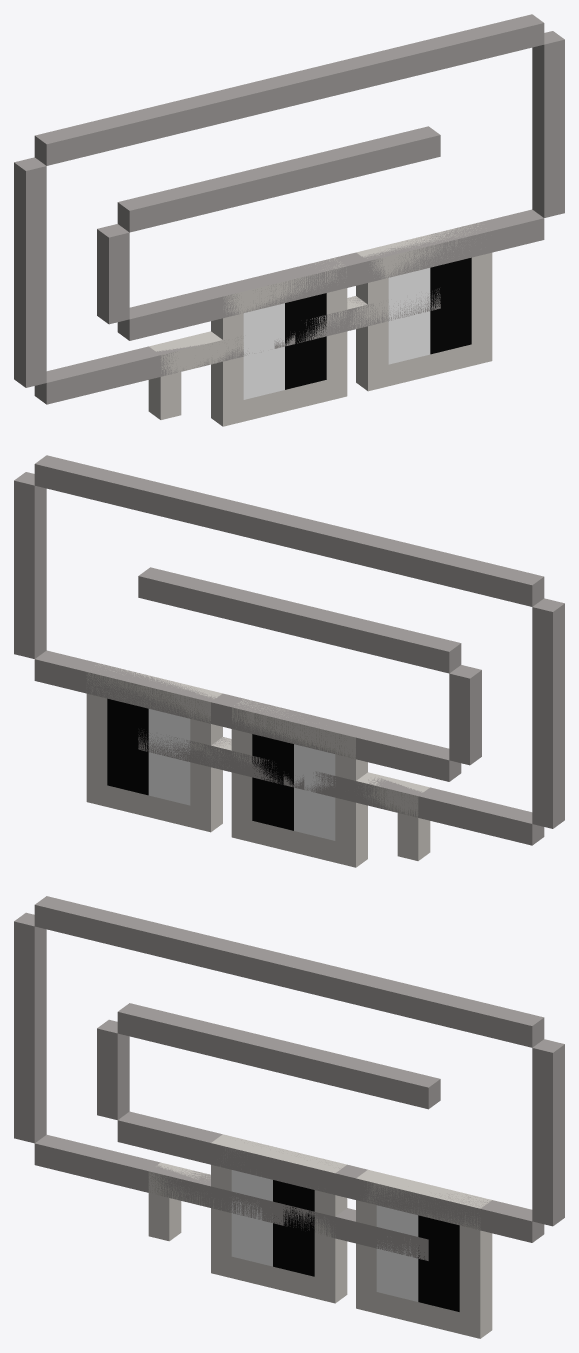
The model's file is paperclip.glb.
The picture shows the model from 3 angles, top to bottom: view 1: azimuth 30°, elevation 25°; view 2: azimuth 150°, elevation 25°; view 3: azimuth 330°, elevation 25°; orthographic projection.
Parts seen in each view (by area): view 1: base, layer-1, layer-2; view 2: base, layer-1, layer-2; view 3: base, layer-1, layer-2.
Part boxes in pixels (x1=…): base: x1=14, y1=14, x2=564, y2=404; layer-1: x1=148, y1=222, x2=492, y2=426; layer-2: x1=243, y1=257, x2=471, y2=399; base: x1=14, y1=455, x2=564, y2=845; layer-1: x1=86, y1=663, x2=430, y2=867; layer-2: x1=107, y1=698, x2=335, y2=840; base: x1=14, y1=896, x2=564, y2=1260; layer-1: x1=148, y1=1134, x2=492, y2=1338; layer-2: x1=231, y1=1170, x2=459, y2=1311.
Size of the model in its own units: 26 by 15 by 1.
Materials: 5 (5 with a texture image).
